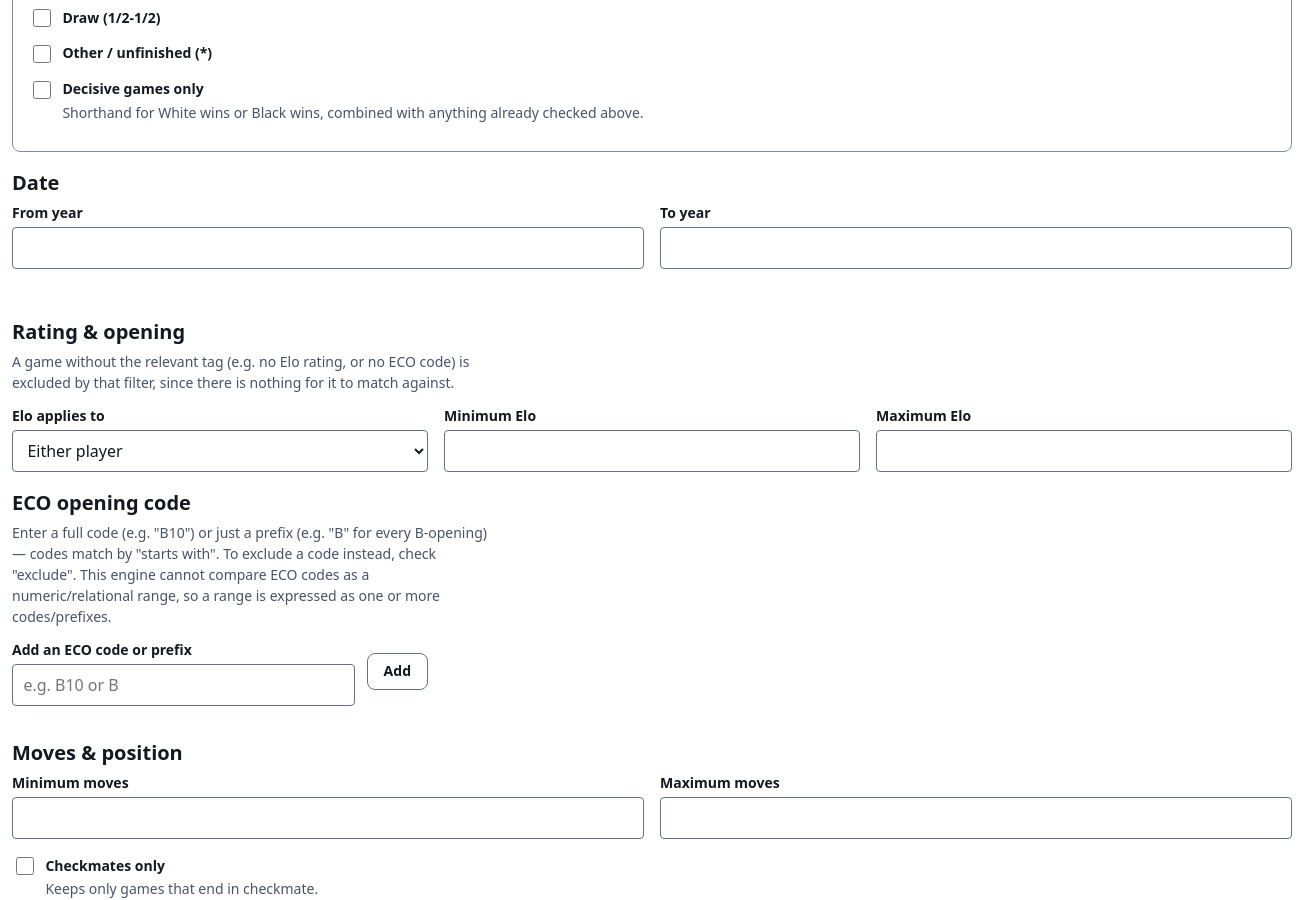
Test: FiltersScreen › shows an inline validation error for an out-of-range Elo value and disables Next
(page scrolled)
Step 1. Type "9999" into the number field labelled "Maximum Elo" → [1084, 450], box [876,430,1292,472]
(page scrolled)
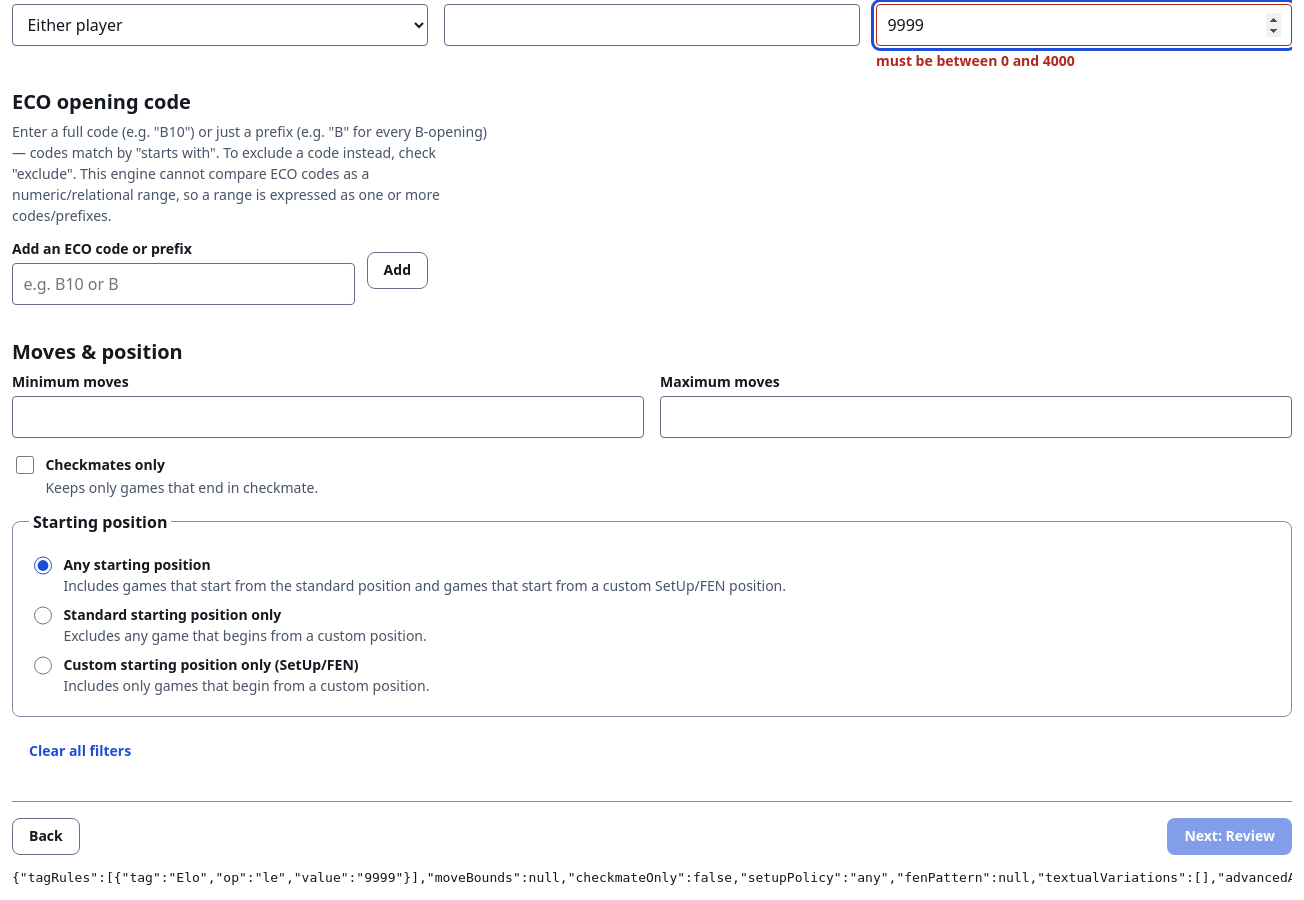
expect the text "must be between 0 and 4000" is shown: met, box [876,50,1075,70]
expect the button "Next: Review" is disabled: met, box [1167,818,1292,855]
